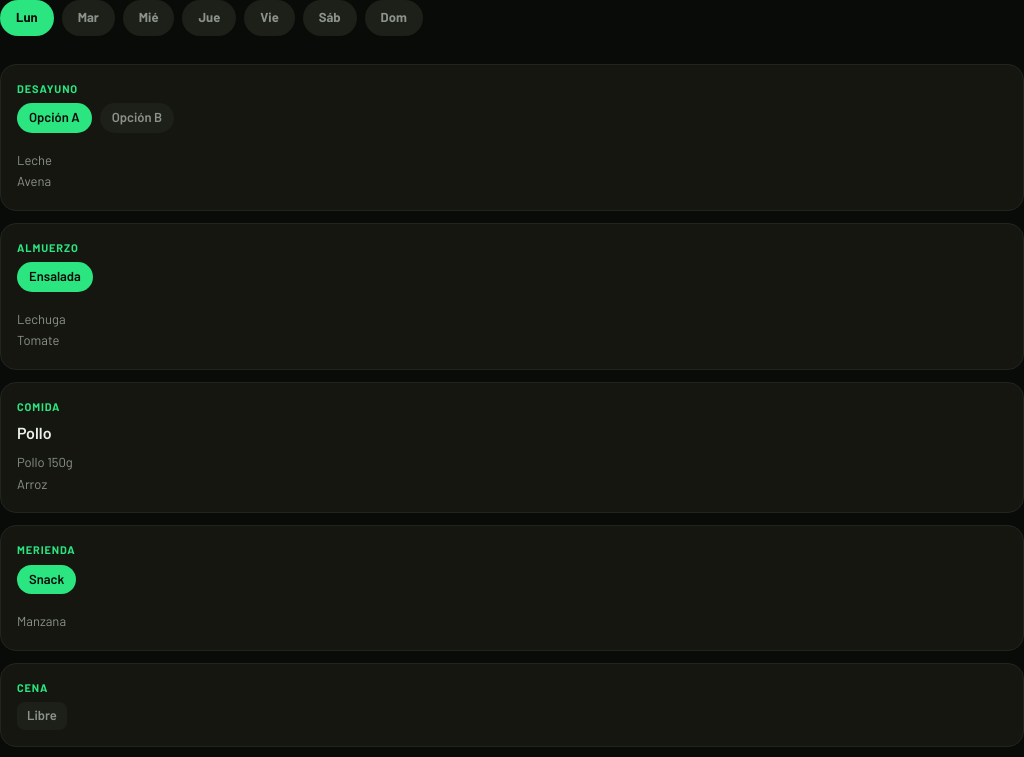
WeeklyMenuView › switches content when a different day chip is clicked
The image size is (1024, 757).
Expected: the text "Pollo" is shown, [17,423,52,442]
# Click Martes
Click the button "Mar" at (88, 18), box [62,0,115,36]
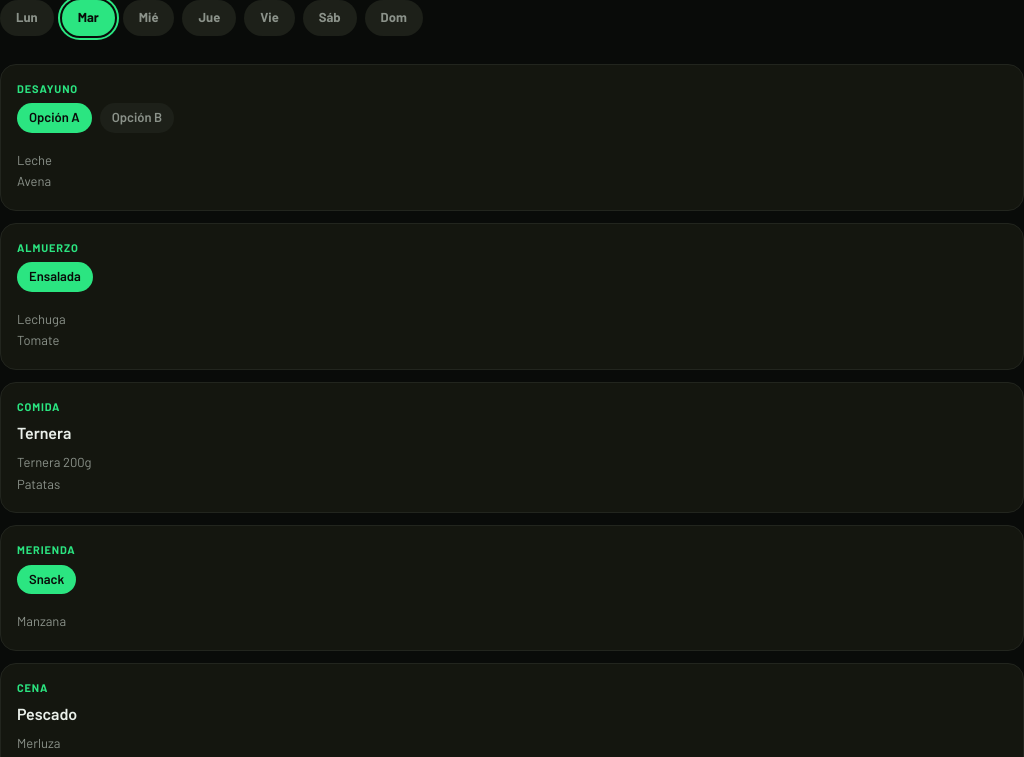
Expected: the text "Ternera" is shown, [17,423,71,442]
Expected: the list item "Ternera 200g" is shown, [17,454,92,470]
Expected: the text "Pescado" is shown, [17,704,77,723]
